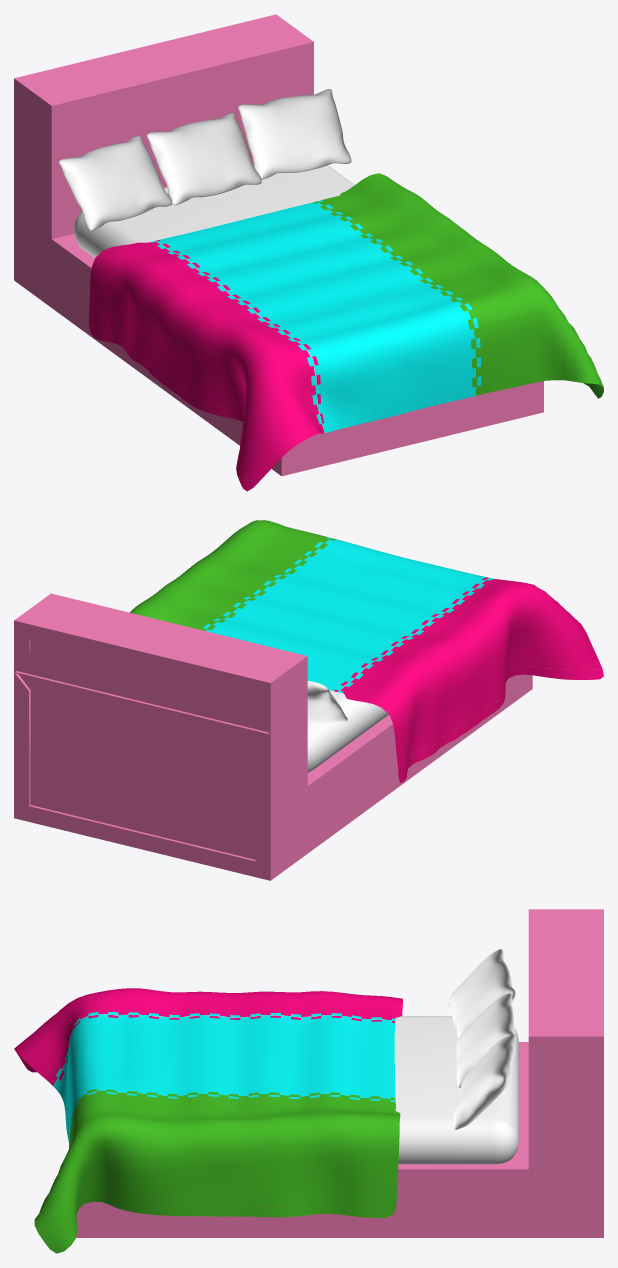
Rendered from Bed2.obj.
The picture shows the model from 3 angles, top to bottom: view 1: azimuth 30°, elevation 25°; view 2: azimuth 150°, elevation 25°; view 3: azimuth 270°, elevation 25°; orthographic projection. The views are drawn at different scales.
Parts seen in each view (by area): view 1: polySurface1; view 2: polySurface1; view 3: polySurface1.
Boxes of the visible parts, left/top/right/bottom form: polySurface1: left=14, top=14, right=603, bottom=491; polySurface1: left=14, top=520, right=603, bottom=880; polySurface1: left=14, top=909, right=603, bottom=1253.
Size of the model in its own units: 2.48 by 1.32 by 3.5.
Materials: 3 (3 with a texture image).
